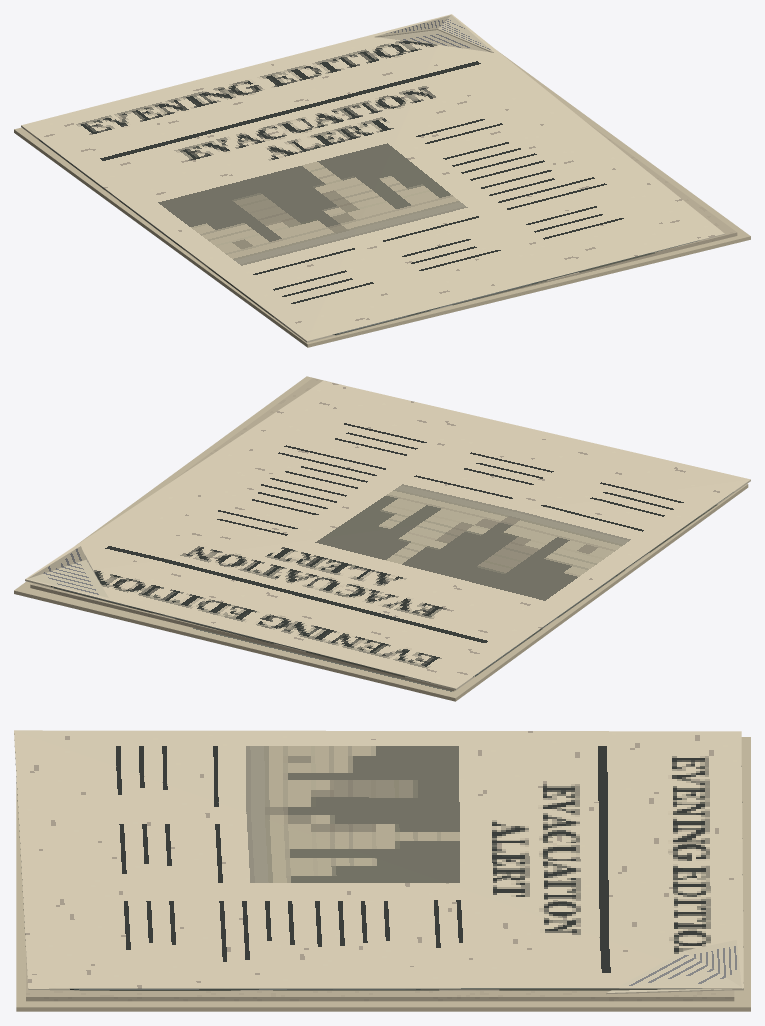
File: newest_newspaper.glb
The picture shows the model from 3 angles, top to bottom: view 1: azimuth 30°, elevation 25°; view 2: azimuth 150°, elevation 25°; view 3: azimuth 270°, elevation 25°; orthographic projection. The views are drawn at different scales.
Visible parts, largest first — view 1: block_front page, block_lower fold, block_creased top corner, block_interior edges; view 2: block_front page, block_lower fold, block_interior edges, block_creased top corner; view 3: block_front page, block_lower fold, block_interior edges, block_creased top corner.
Part boxes in pixels (bbox=[...]): block_front page: bbox=[21, 14, 724, 342]; block_lower fold: bbox=[14, 50, 750, 347]; block_creased top corner: bbox=[374, 15, 493, 52]; block_interior edges: bbox=[468, 120, 737, 301]; block_front page: bbox=[25, 380, 750, 690]; block_lower fold: bbox=[14, 376, 748, 701]; block_interior edges: bbox=[30, 378, 454, 691]; block_creased top corner: bbox=[27, 546, 108, 597]; block_front page: bbox=[14, 730, 743, 990]; block_lower fold: bbox=[16, 737, 750, 1011]; block_interior edges: bbox=[26, 952, 734, 1001]; block_creased top corner: bbox=[606, 940, 743, 994].
Size of the model in its own units: 0.271 by 0.0152 by 0.311.
1 material, 1 textured.
